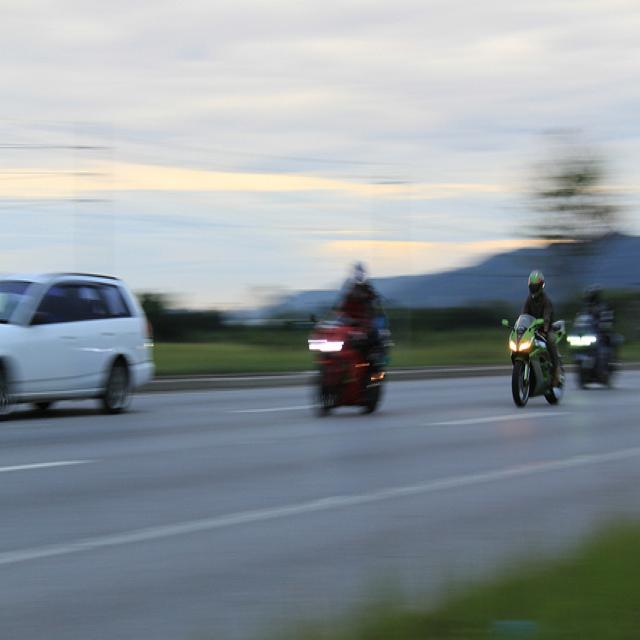motor: (306, 315, 393, 420), (501, 313, 566, 405), (568, 312, 626, 385)
